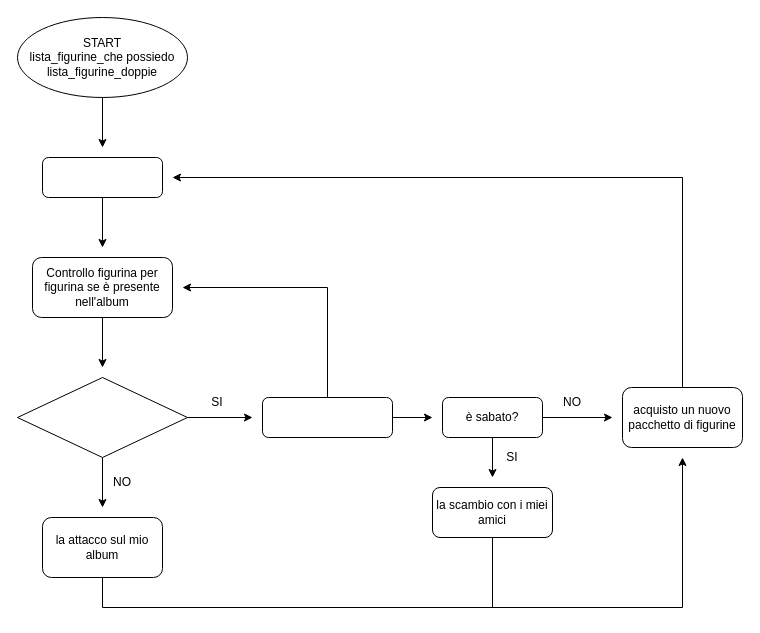
This 760x633 diagram has some shape labels left out. The shapes that lost their labels are listed below. From the top down, each one's centre as x and y in pixels, then its label:
the point at 102,177: Scarto il pacchetto di figurine
the point at 102,417: la figurina è doppia?
the point at 327,417: la aggiungo alla lista_figurine_doppie
